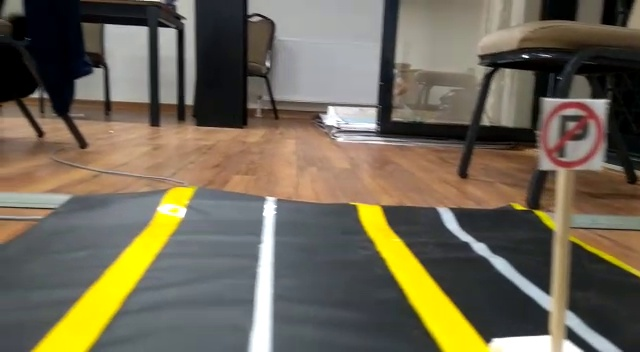park_yapilmaz: (539, 96, 607, 170)
